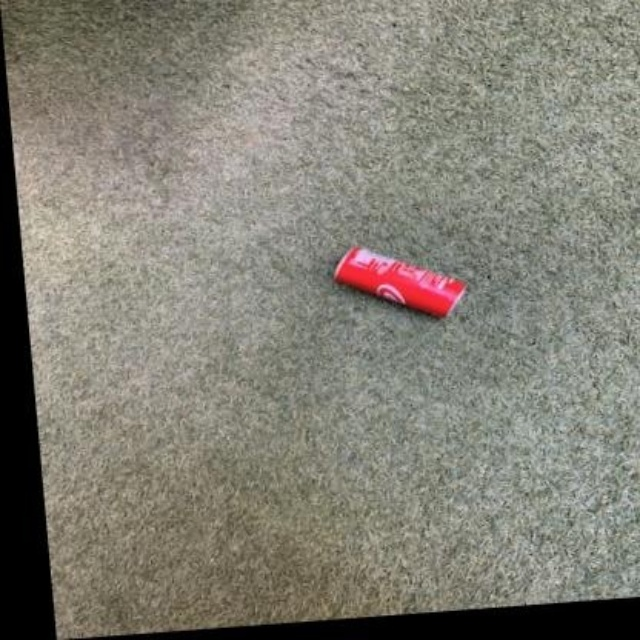trash: (334, 246, 465, 315)
